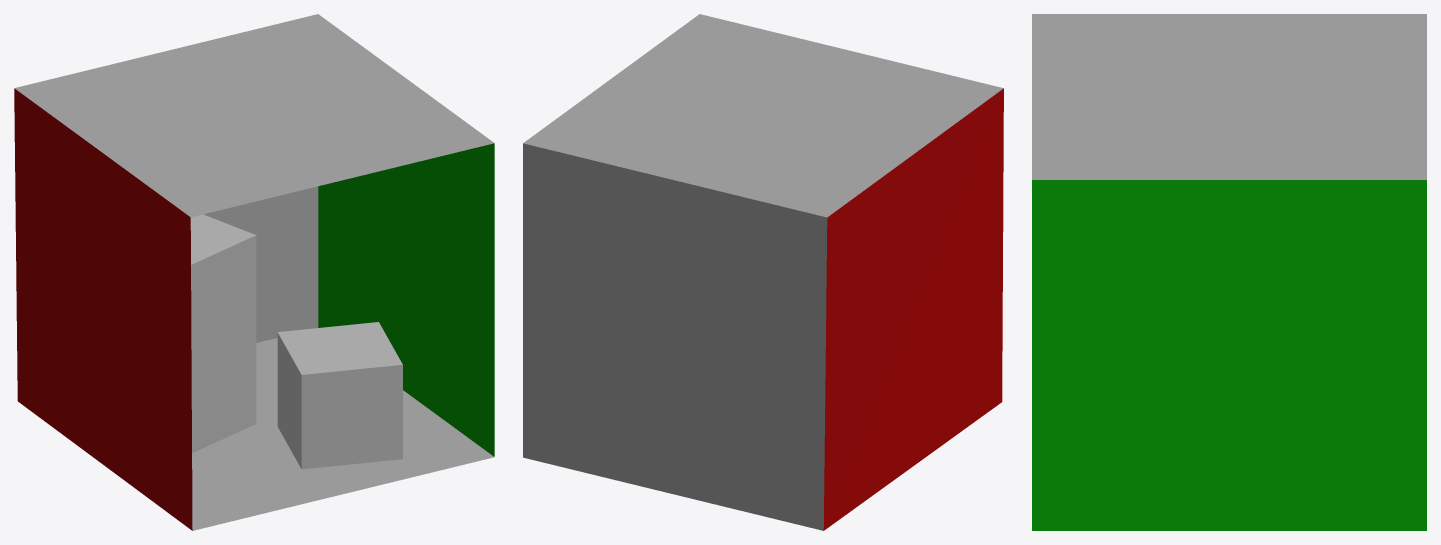
Rendered from CornellBox.glb.
3 views of the same model, side by side, from view 1: azimuth 30°, elevation 25°; view 2: azimuth 150°, elevation 25°; view 3: azimuth 270°, elevation 25° (orthographic). The views are drawn at different scales.
Parts seen in each view (by area): view 1: cornell.box, small.box, large.box; view 2: cornell.box; view 3: cornell.box.
Part boxes in pixels (box(x1,y1,x2,y2)): cornell.box: box(14, 14, 494, 530); small.box: box(277, 322, 402, 469); large.box: box(190, 214, 256, 453); cornell.box: box(523, 14, 1003, 530); cornell.box: box(1032, 14, 1426, 530).
Size of the model in its own units: 556 by 549 by 559.
